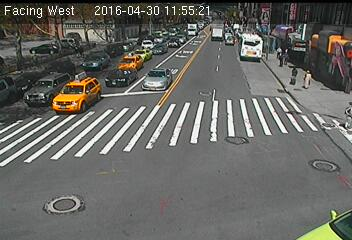pos: (287, 65, 303, 86)
